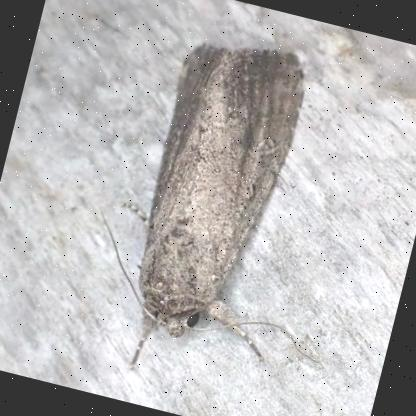Fall Armyworm Moth: (64, 12, 396, 416)
